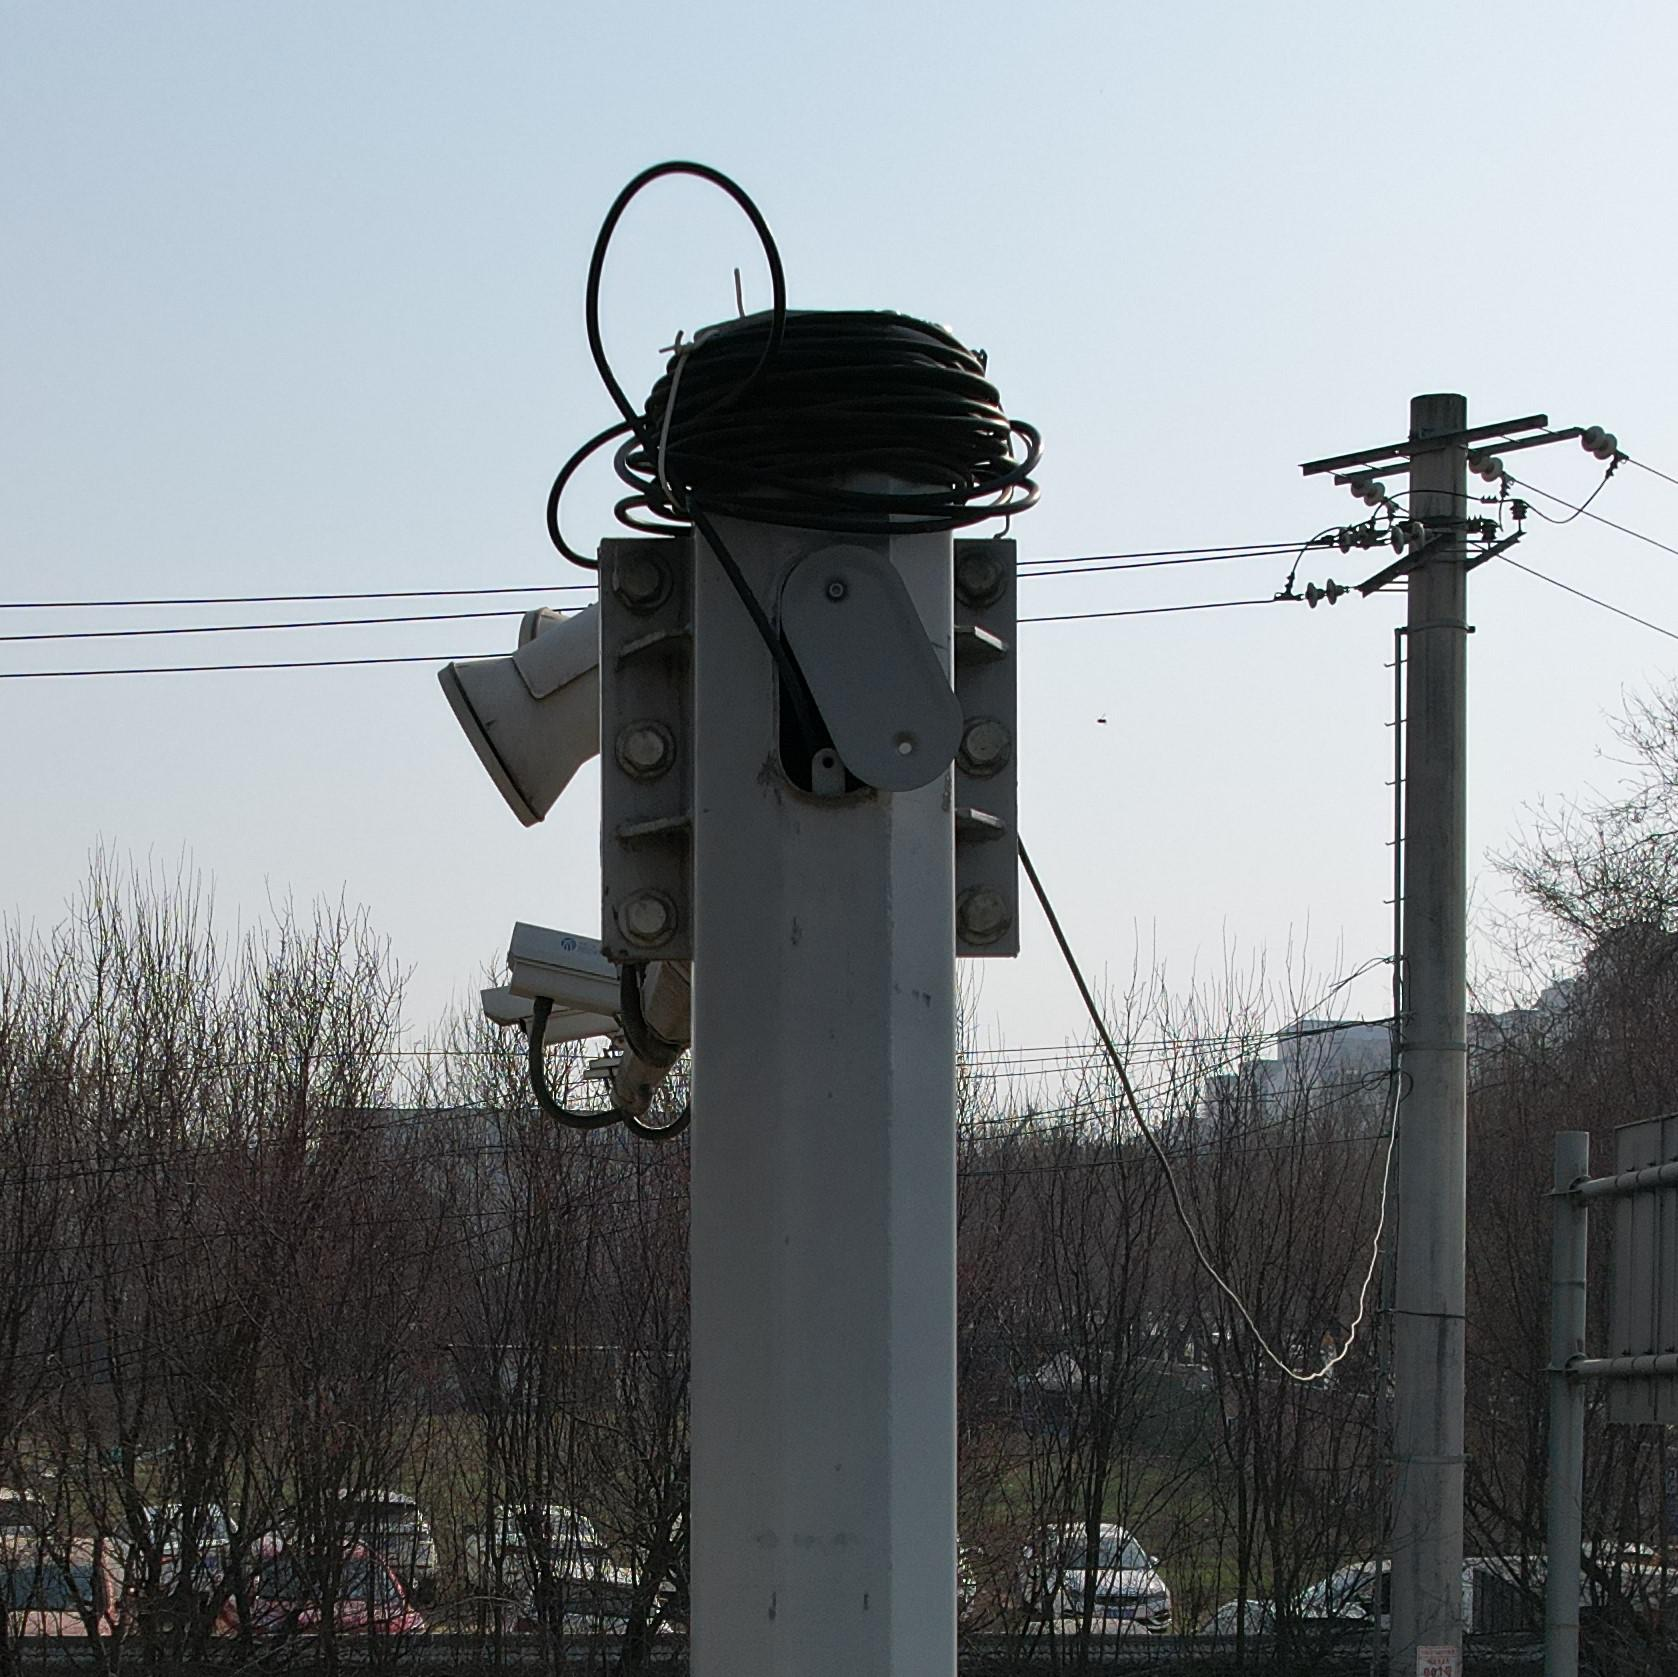bolt_a: (958, 719, 1009, 769), (622, 726, 669, 776), (625, 892, 672, 941), (958, 891, 1007, 937)
vague: (613, 554, 666, 605), (953, 553, 1006, 602)
